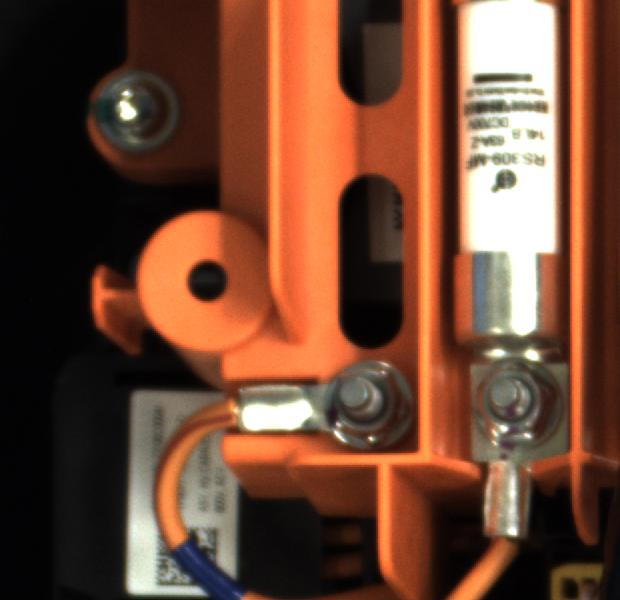screw_m: (81, 65, 192, 162)
screw_s: (327, 356, 417, 443), (472, 356, 556, 441)
